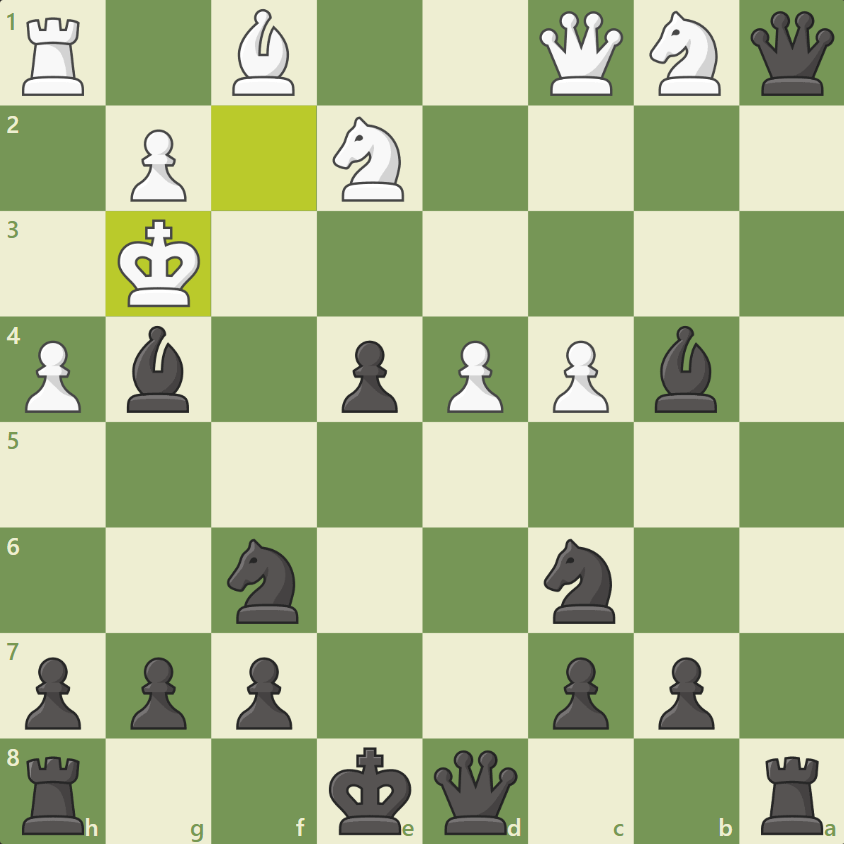B: (229, 6, 299, 99)
K: (115, 216, 202, 311)
N: (328, 114, 408, 205), (646, 8, 725, 100)
P: (125, 127, 192, 206), (549, 336, 611, 416), (444, 337, 506, 416), (22, 338, 85, 415)
Q: (536, 8, 625, 99)
R: (18, 14, 88, 100)
b: (124, 322, 194, 417), (652, 322, 719, 417)
k: (326, 744, 414, 840)
n: (540, 536, 619, 627), (224, 537, 302, 628)
p: (124, 654, 192, 733), (654, 654, 719, 733), (21, 654, 85, 734), (233, 654, 296, 734), (339, 333, 399, 416), (551, 655, 612, 733)
q: (747, 4, 838, 100), (430, 747, 521, 838)
r: (16, 753, 90, 838), (758, 754, 828, 841)
